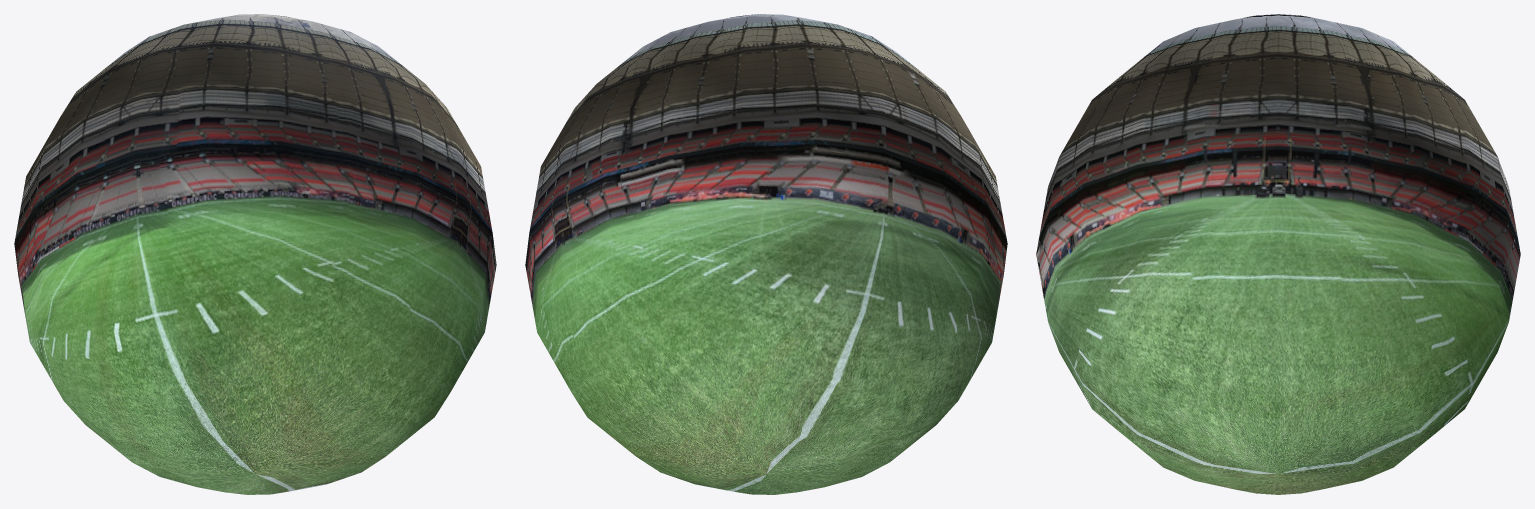
The model's file is stadium_field_skybox.glb.
3 views of the same model, side by side, from view 1: azimuth 30°, elevation 25°; view 2: azimuth 150°, elevation 25°; view 3: azimuth 270°, elevation 25° (orthographic).
Visible parts, largest first — view 1: Skybox_0; view 2: Skybox_0; view 3: Skybox_0.
Boxes of the visible parts, box(x1,y1,x2,y2) form: Skybox_0: box(14, 14, 496, 494); Skybox_0: box(525, 14, 1007, 494); Skybox_0: box(1036, 14, 1520, 494).
Size of the model in its own units: 500 by 500 by 500.
Materials: 1 (1 with a texture image).
